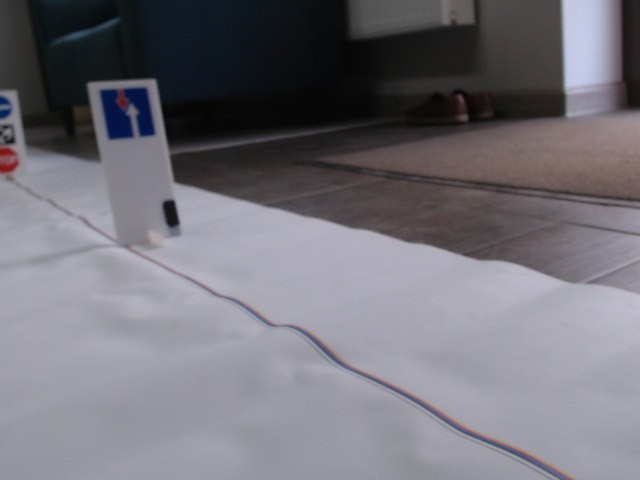priority_movement: (96, 86, 160, 142)
